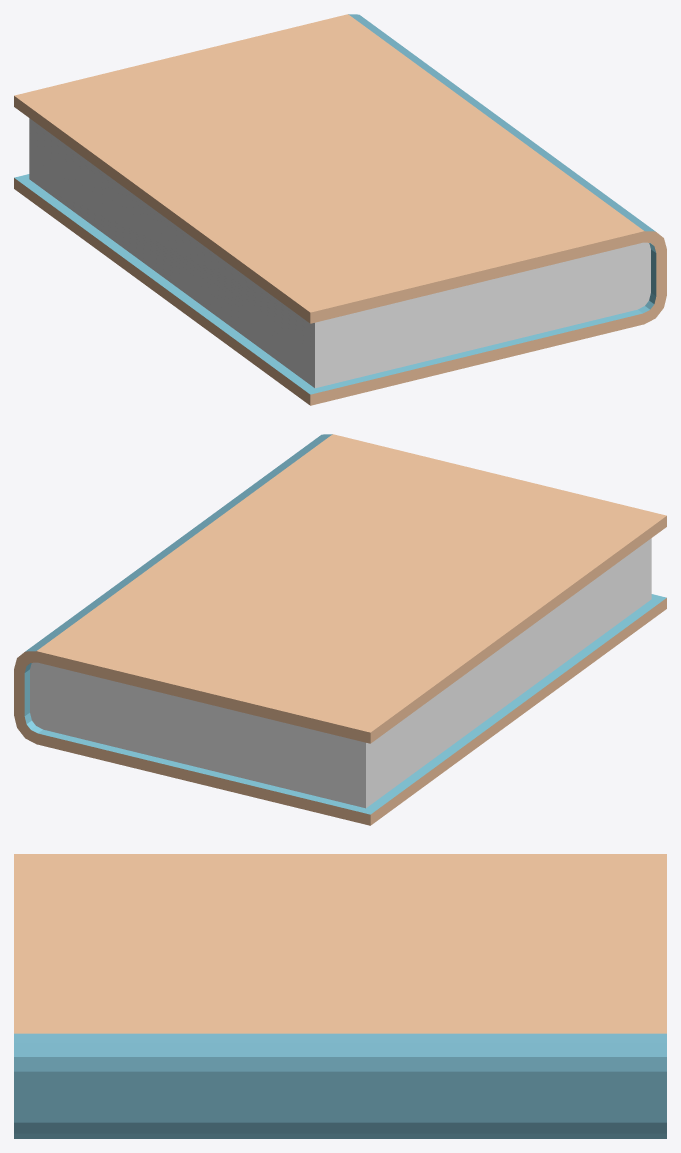
Rendered from Book 1.fbx.
The picture shows the model from 3 angles, top to bottom: view 1: azimuth 30°, elevation 25°; view 2: azimuth 150°, elevation 25°; view 3: azimuth 270°, elevation 25°; orthographic projection. The views are drawn at different scales.
Parts seen in each view (by area): view 1: Book 1; view 2: Book 1; view 3: Book 1.
Part boxes in pixels (<box>): Book 1: <box>14,14,666,405</box>; Book 1: <box>14,434,666,825</box>; Book 1: <box>14,854,666,1138</box>.
Size of the model in its own units: 0.1587 by 0.0396 by 0.2286.
